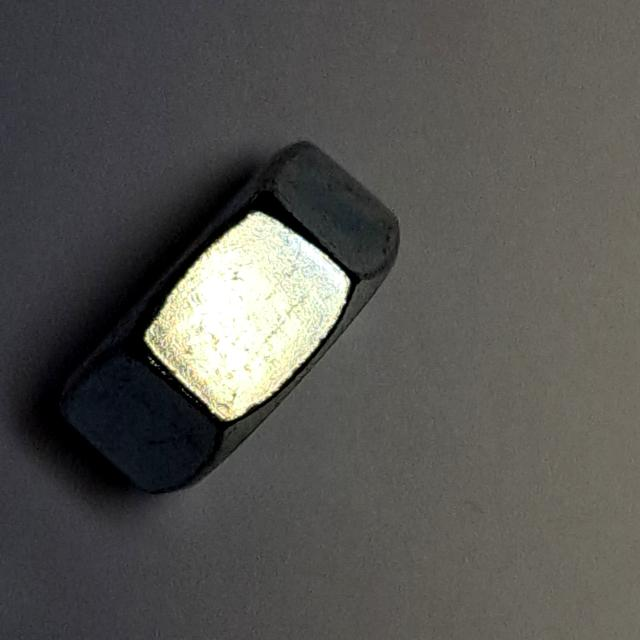Side_Excellent: (40, 128, 424, 512)
